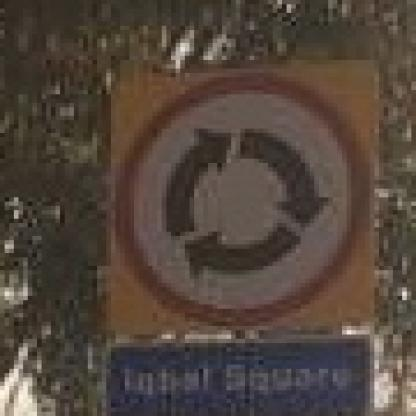Roundabout Ahead: (108, 61, 375, 333)
